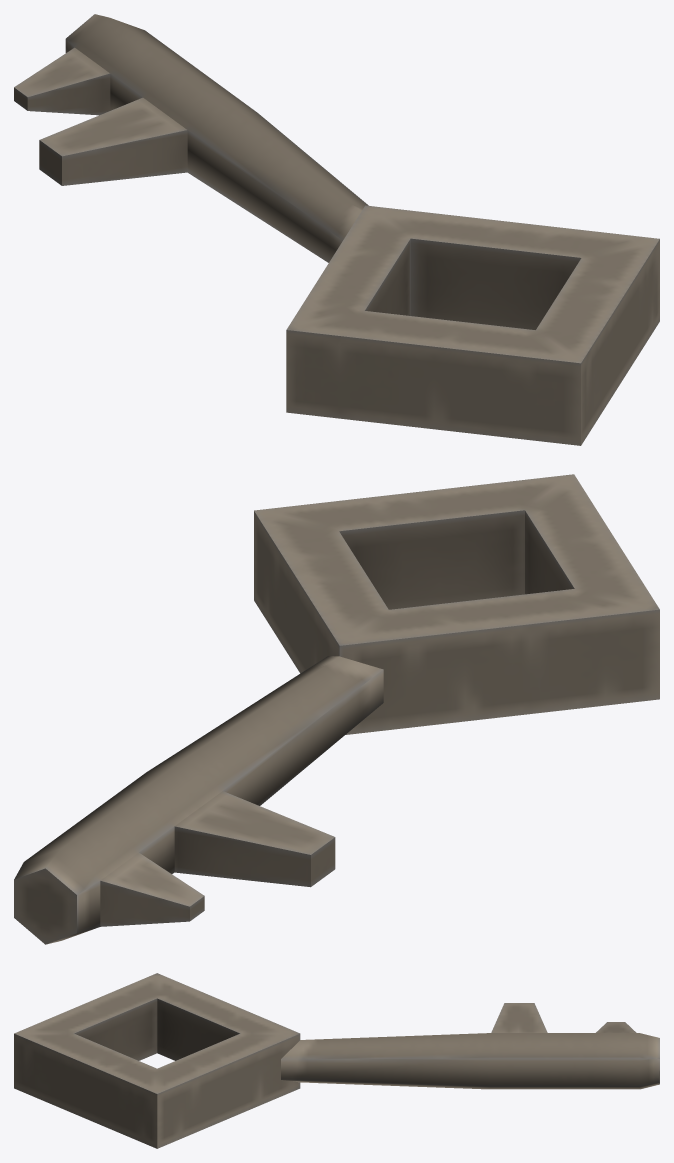
The model's file is SM_Key.fbx.
3 renders of one model, top to bottom at view 1: azimuth 30°, elevation 25°; view 2: azimuth 150°, elevation 25°; view 3: azimuth 270°, elevation 25°, orthographic. The views are drawn at different scales.
Visible parts, largest first — view 1: Box001; view 2: Box001; view 3: Box001.
Boxes of the visible parts, box(x1,y1,x2,y2) form: Box001: box(14, 14, 659, 445); Box001: box(14, 474, 659, 944); Box001: box(14, 973, 659, 1148).
Size of the model in its own units: 0.7876 by 0.1712 by 1.78.
